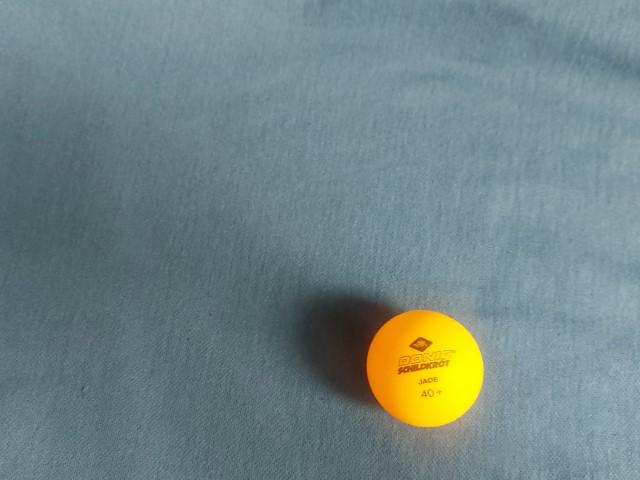oball: (151, 48, 278, 175)
